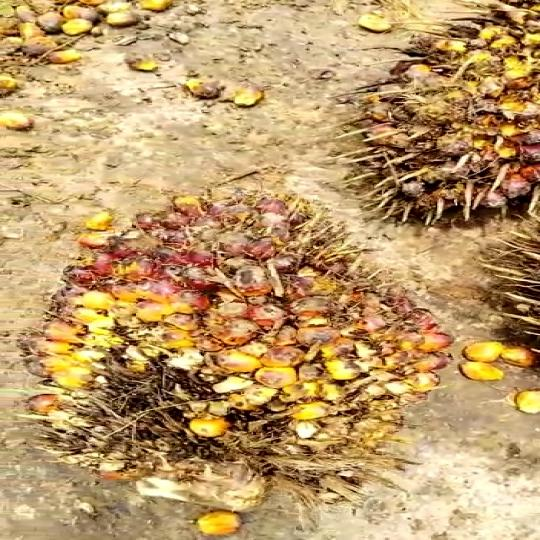masak: (13, 193, 468, 500), (335, 0, 540, 220)
